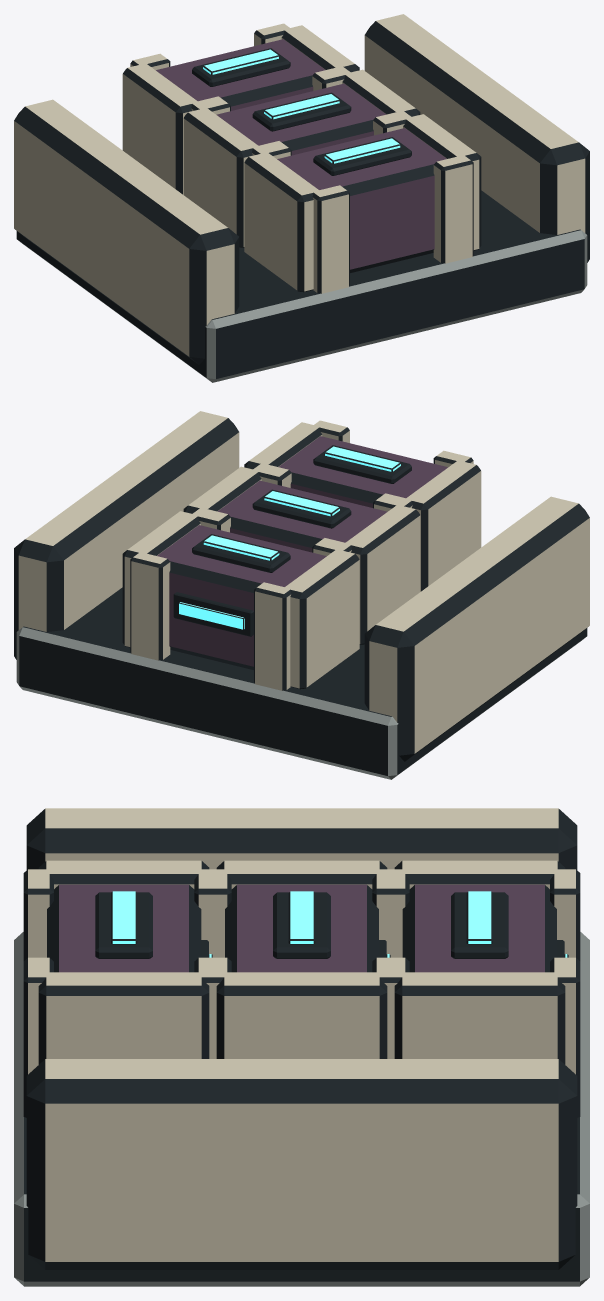
Rendered from tech_core.glb.
The picture shows the model from 3 angles, top to bottom: view 1: azimuth 30°, elevation 25°; view 2: azimuth 150°, elevation 25°; view 3: azimuth 270°, elevation 25°; orthographic projection. The views are drawn at different scales.
Visible parts, largest first — view 1: Carrier ivory rail -0.35, Carrier lower frame, Carrier ivory rail 0.35, Carrier module -0.21 notched casing, Carrier module -0.21 end brace -1, Carrier module 0 end brace -1, Carrier module 0.21 end brace -1, Carrier module 0.21 notched casing, Carrier module 0 notched casing, Carrier module -0.21 notch lug 1 -1, Carrier module -0.21 notch lug -1 -1, Carrier module -0.21 end brace 1 (+9 smaller); view 2: Carrier ivory rail -0.35, Carrier lower frame, Carrier ivory rail 0.35, Carrier module 0.21 notched casing, Carrier module 0.21 end brace -1, Carrier module 0 end brace -1, Carrier module -0.21 end brace -1, Carrier module -0.21 notched casing, Carrier module 0 notched casing, Carrier module 0.21 notch lug 1 1, Carrier module 0.21 notch lug -1 1, Carrier module 0.21 end brace 1 (+11 smaller); view 3: Carrier ivory rail 0.35, Carrier ivory rail -0.35, Carrier lower frame, Carrier module 0.21 end brace 1, Carrier module -0.21 end brace 1, Carrier module 0 end brace 1, Carrier module 0.21 notched casing, Carrier module -0.21 notched casing, Carrier module 0 notched casing, Carrier module 0 end brace -1, Carrier module 0.21 end brace -1, Carrier module -0.21 end brace -1 (+18 smaller).
Boxes of the visible parts, left/top/right/bottom form: Carrier ivory rail -0.35: left=14, top=99, right=239, bottom=364; Carrier lower frame: left=16, top=190, right=587, bottom=382; Carrier ivory rail 0.35: left=364, top=14, right=589, bottom=262; Carrier module -0.21 notched casing: left=277, top=128, right=446, bottom=272; Carrier module -0.21 end brace -1: left=244, top=152, right=318, bottom=292; Carrier module 0 end brace -1: left=183, top=108, right=258, bottom=247; Carrier module 0.21 end brace -1: left=122, top=63, right=198, bottom=194; Carrier module 0.21 notched casing: left=156, top=39, right=325, bottom=110; Carrier module 0 notched casing: left=216, top=83, right=385, bottom=155; Carrier module -0.21 notch lug 1 -1: left=433, top=155, right=473, bottom=263; Carrier module -0.21 notch lug -1 -1: left=312, top=185, right=349, bottom=293; Carrier module -0.21 end brace 1: left=403, top=114, right=481, bottom=250; Carrier ivory rail -0.35: left=364, top=496, right=589, bottom=761; Carrier lower frame: left=16, top=587, right=587, bottom=779; Carrier ivory rail 0.35: left=14, top=411, right=239, bottom=659; Carrier module 0.21 notched casing: left=157, top=525, right=326, bottom=669; Carrier module 0.21 end brace -1: left=285, top=549, right=359, bottom=689; Carrier module 0 end brace -1: left=345, top=505, right=420, bottom=644; Carrier module -0.21 end brace -1: left=405, top=460, right=481, bottom=591; Carrier module -0.21 notched casing: left=278, top=436, right=447, bottom=507; Carrier module 0 notched casing: left=218, top=480, right=387, bottom=552; Carrier module 0.21 notch lug 1 1: left=130, top=552, right=170, bottom=660; Carrier module 0.21 notch lug -1 1: left=254, top=582, right=291, bottom=690; Carrier module 0.21 end brace 1: left=122, top=511, right=200, bottom=647; Carrier ivory rail 0.35: left=26, top=1059, right=577, bottom=1269; Carrier ivory rail -0.35: left=26, top=808, right=577, bottom=869; Carrier lower frame: left=14, top=932, right=589, bottom=1286; Carrier module 0.21 end brace 1: left=394, top=972, right=565, bottom=1064; Carrier module -0.21 end brace 1: left=38, top=972, right=209, bottom=1064; Carrier module 0 end brace 1: left=216, top=972, right=387, bottom=1058; Carrier module 0.21 notched casing: left=402, top=884, right=556, bottom=972; Carrier module -0.21 notched casing: left=47, top=884, right=201, bottom=972; Carrier module 0 notched casing: left=225, top=884, right=378, bottom=972; Carrier module 0 end brace -1: left=216, top=860, right=387, bottom=888; Carrier module 0.21 end brace -1: left=394, top=860, right=565, bottom=888; Carrier module -0.21 end brace -1: left=38, top=860, right=209, bottom=888.
Size of the model in its own units: 0.8 by 0.3121 by 0.68.
